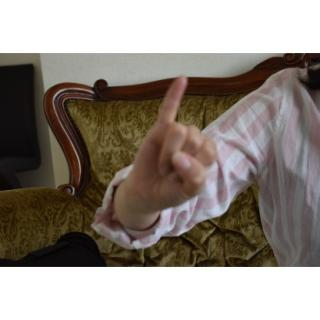MEEM: (123, 74, 221, 210)
